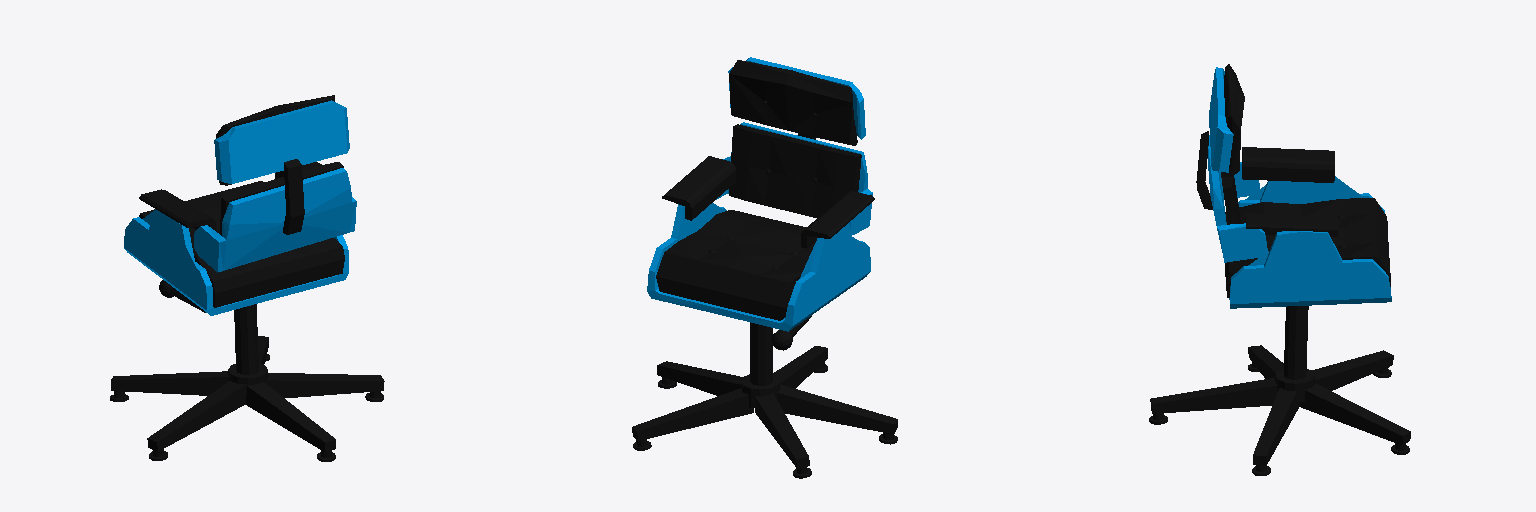
The picture shows the model from 3 angles: view 1: azimuth 30°, elevation 25°; view 2: azimuth 150°, elevation 25°; view 3: azimuth 270°, elevation 25°; orthographic projection.
Visible parts, largest first — view 1: group[number redacted], group[number redacted], group[number redacted], group[number redacted], group[number redacted], group[number redacted]; view 2: group[number redacted], group[number redacted], group[number redacted], group[number redacted], group[number redacted], group[number redacted], group[number redacted], group[number redacted]; view 3: group[number redacted], group[number redacted], group[number redacted], group[number redacted], group[number redacted], group[number redacted], group[number redacted], group[number redacted].
Boxes of the visible parts, x1=… form: group[number redacted]: x1=124, y1=95, x2=356, y2=315; group[number redacted]: x1=147, y1=381, x2=246, y2=451; group[number redacted]: x1=266, y1=373, x2=384, y2=397; group[number redacted]: x1=246, y1=382, x2=335, y2=452; group[number redacted]: x1=111, y1=371, x2=228, y2=395; group[number redacted]: x1=234, y1=304, x2=258, y2=374; group[number redacted]: x1=647, y1=57, x2=874, y2=331; group[number redacted]: x1=777, y1=384, x2=897, y2=434; group[number redacted]: x1=632, y1=388, x2=753, y2=440; group[number redacted]: x1=755, y1=393, x2=809, y2=468; group[number redacted]: x1=657, y1=361, x2=742, y2=395; group[number redacted]: x1=750, y1=322, x2=772, y2=385; group[number redacted]: x1=773, y1=346, x2=827, y2=388; group[number redacted]: x1=741, y1=374, x2=779, y2=407; group[number redacted]: x1=1196, y1=64, x2=1391, y2=308; group[number redacted]: x1=1150, y1=378, x2=1277, y2=413; group[number redacted]: x1=1300, y1=383, x2=1410, y2=445; group[number redacted]: x1=1253, y1=388, x2=1299, y2=465; group[number redacted]: x1=1311, y1=350, x2=1393, y2=390; group[number redacted]: x1=1284, y1=306, x2=1308, y2=379; group[number redacted]: x1=1248, y1=345, x2=1283, y2=378; group[number redacted]: x1=1275, y1=369, x2=1314, y2=402.
Bounding box in the file's own units: 1.16 × 1.57 × 1.11.